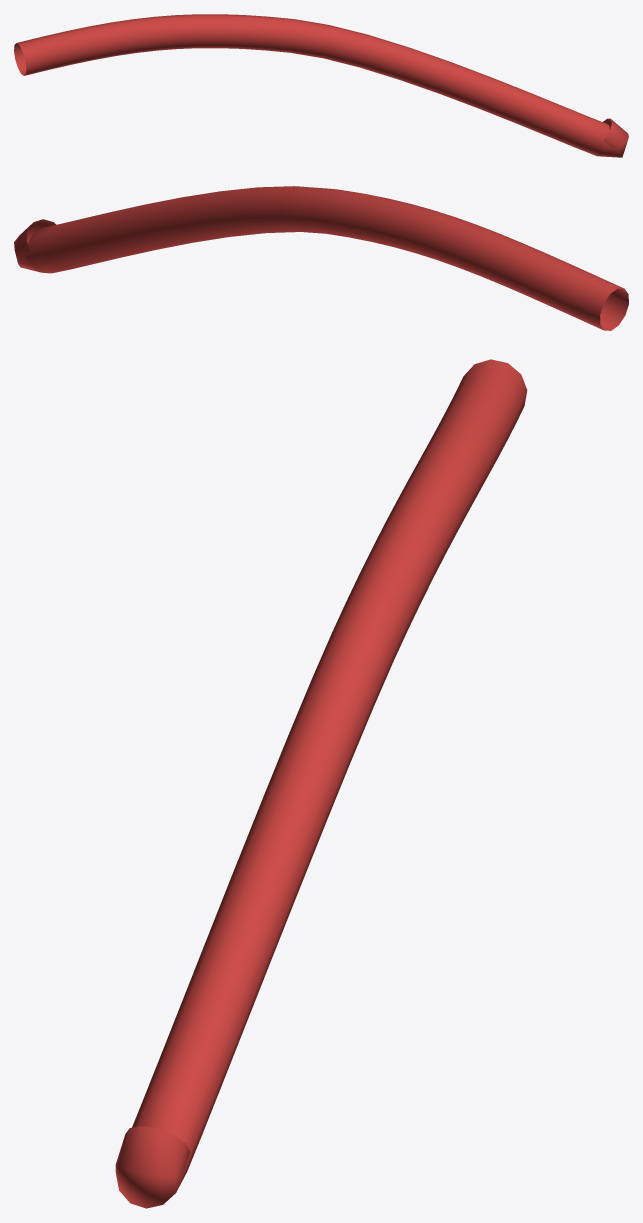
3 views of the same model, one above another, from view 1: azimuth 30°, elevation 25°; view 2: azimuth 150°, elevation 25°; view 3: azimuth 270°, elevation 25° (orthographic). The views are drawn at different scales.
Visible parts, largest first — view 1: 左侧腕背侧动脉网; view 2: 左侧腕背侧动脉网; view 3: 左侧腕背侧动脉网.
Boxes of the visible parts, bbox=[...] form: 左侧腕背侧动脉网: bbox=[14, 14, 628, 157]; 左侧腕背侧动脉网: bbox=[14, 186, 628, 330]; 左侧腕背侧动脉网: bbox=[115, 359, 527, 1208].
Size of the model in its own units: 0.0367 by 0.012 by 0.0125.
